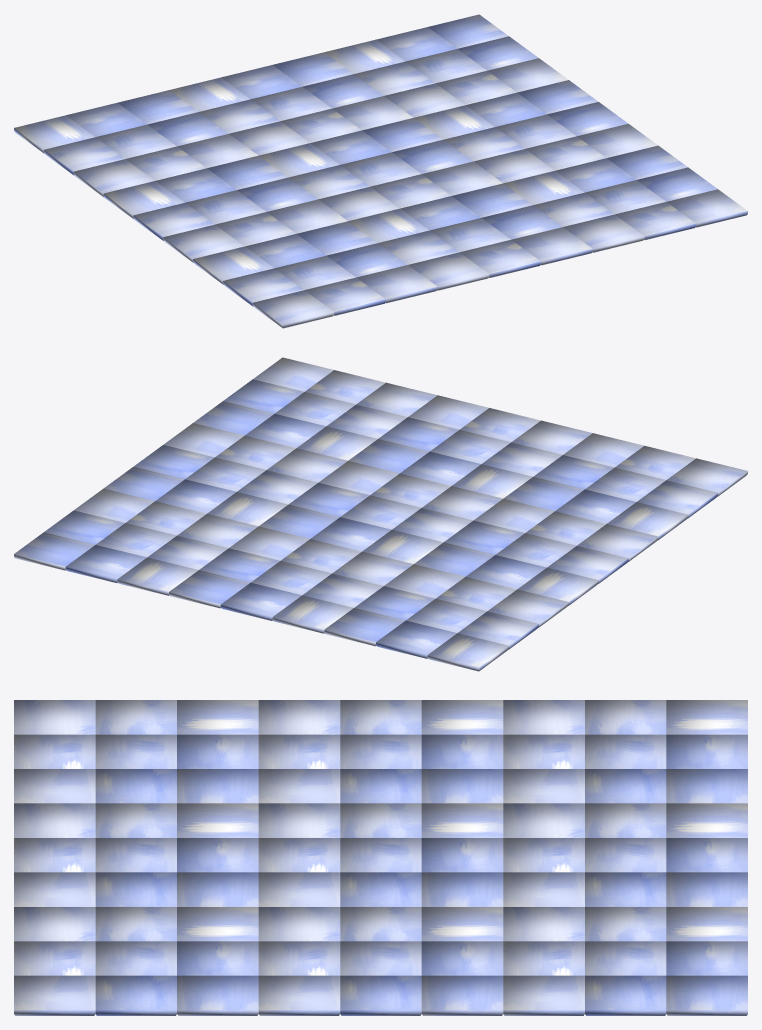
Rendered from floors.fbx.
3 renders of one model, top to bottom at view 1: azimuth 30°, elevation 25°; view 2: azimuth 150°, elevation 25°; view 3: azimuth 270°, elevation 25°, orthographic. The views are drawn at different scales.
Parts seen in each view (by area): view 1: Floor; view 2: Floor; view 3: Floor.
Part boxes in pixels (x1,y1,x2,y2): Floor: (14, 14, 747, 328); Floor: (14, 357, 747, 671); Floor: (14, 700, 747, 1015).
Bounding box in the file's own units: 1800 × 20 × 1800.
1 material, 1 textured.
